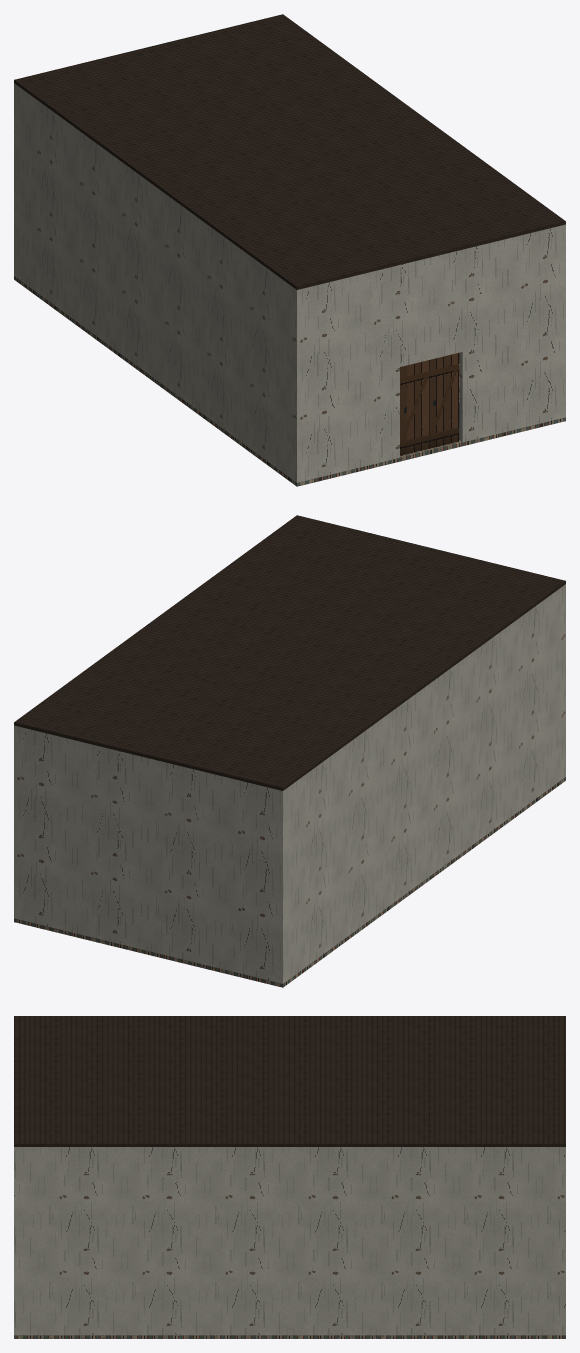
Rendered from capela.glb.
3 views of the same model, one above another, from view 1: azimuth 30°, elevation 25°; view 2: azimuth 150°, elevation 25°; view 3: azimuth 270°, elevation 25° (orthographic). The views are drawn at different scales.
Visible parts, largest first — view 1: sala-col, teto-col; view 2: sala-col, teto-col; view 3: sala-col, teto-col.
Boxes of the visible parts, x1,y1,x2,y2 form: sala-col: (14, 83, 565, 486); teto-col: (14, 14, 565, 289); sala-col: (14, 584, 565, 987); teto-col: (14, 515, 565, 790); sala-col: (14, 1147, 565, 1338); teto-col: (14, 1016, 565, 1146).
Size of the model in its own units: 7.3 by 5.18 by 13.3.
Materials: 24 (24 with a texture image).
